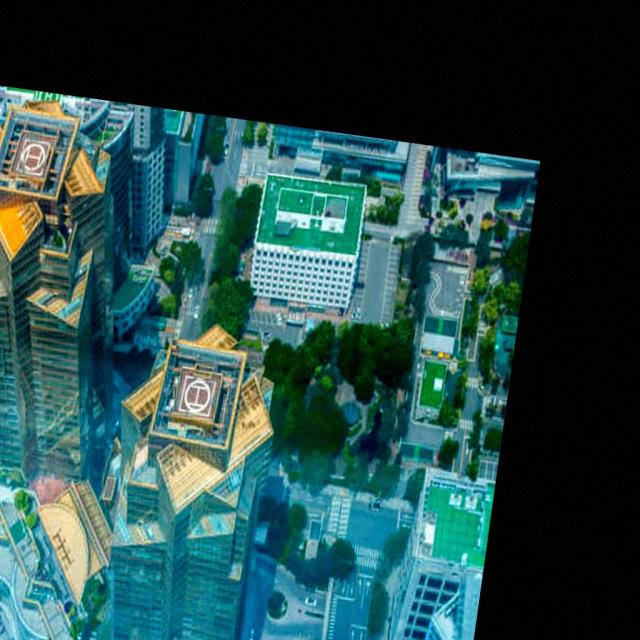helipad: (182, 378, 211, 413), (19, 141, 46, 172)
